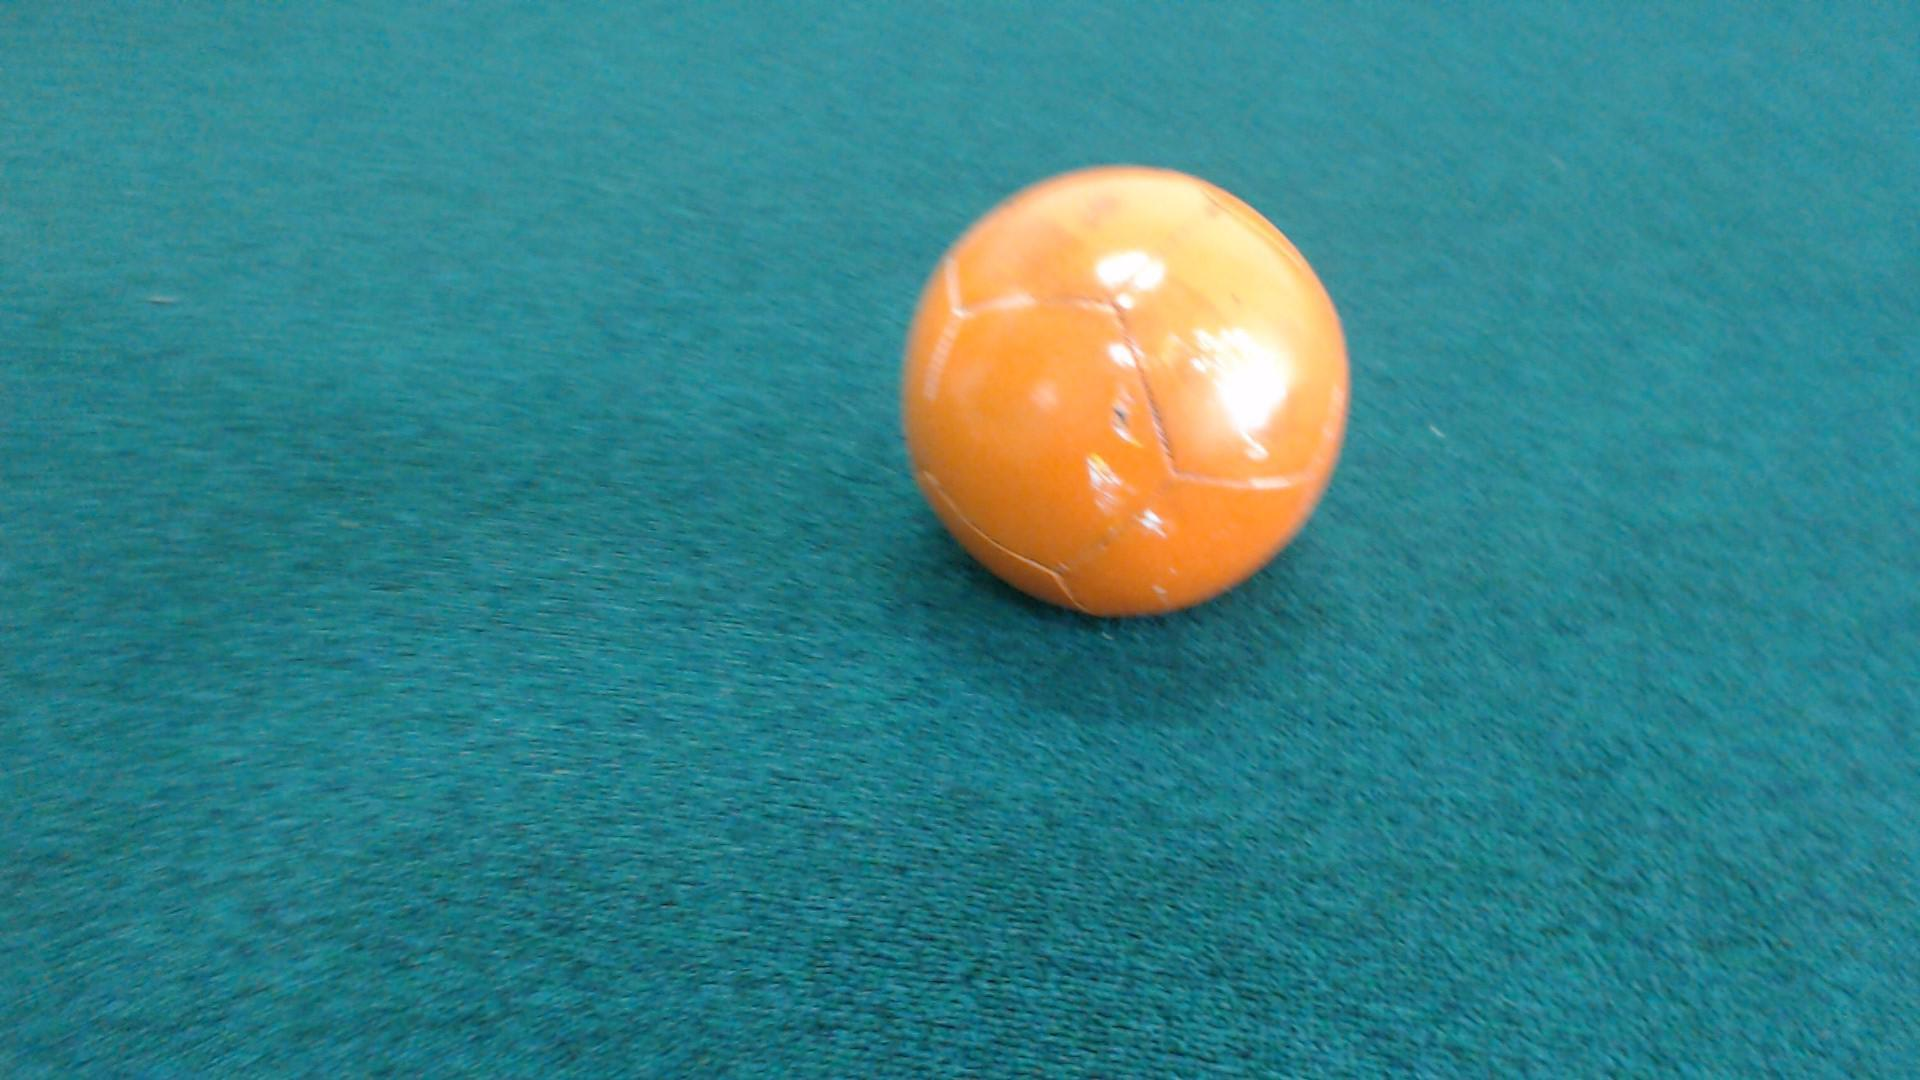bola: (861, 156, 1367, 644)
